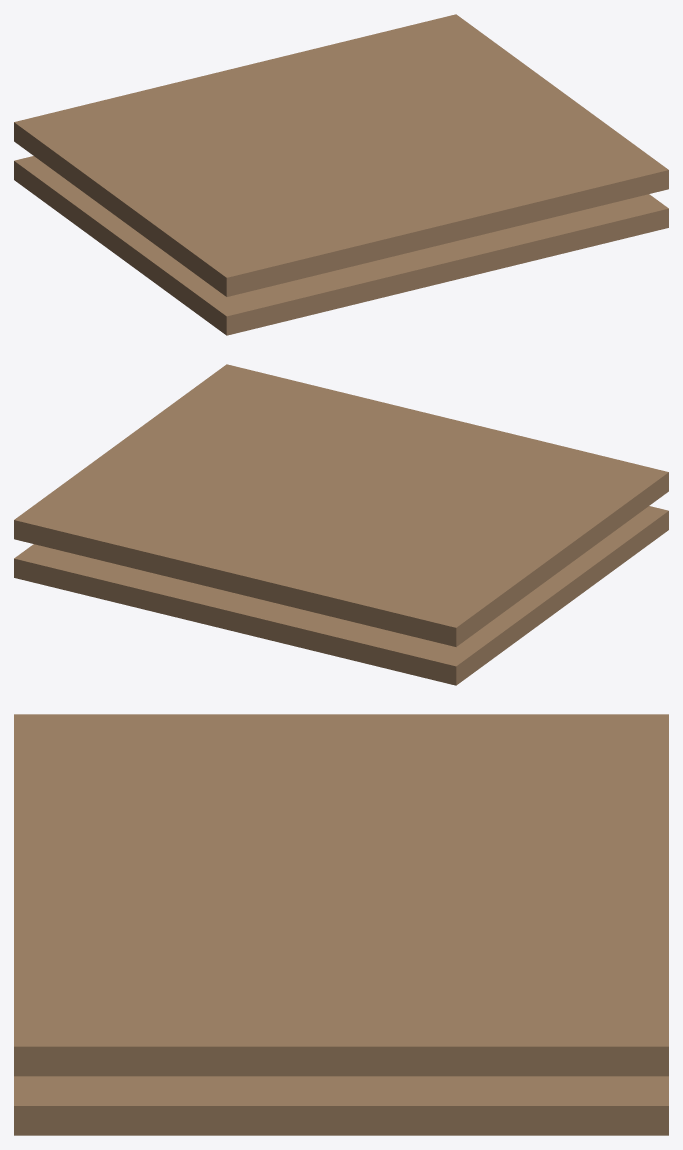
File: pallet-1200x1000.glb
3 renders of one model, top to bottom at view 1: azimuth 30°, elevation 25°; view 2: azimuth 150°, elevation 25°; view 3: azimuth 270°, elevation 25°, orthographic. The views are drawn at different scales.
Parts seen in each view (by area): view 1: part_0, part_1; view 2: part_0, part_1; view 3: part_0, part_1.
Boxes of the visible parts, x1=… form: part_0: x1=14, y1=14, x2=668, y2=296; part_1: x1=14, y1=156, x2=668, y2=335; part_0: x1=14, y1=364, x2=668, y2=646; part_1: x1=14, y1=506, x2=668, y2=685; part_0: x1=14, y1=714, x2=668, y2=1076; part_1: x1=14, y1=1076, x2=668, y2=1135.
Bounding box in the file's own units: 1200 × 150 × 1000.
